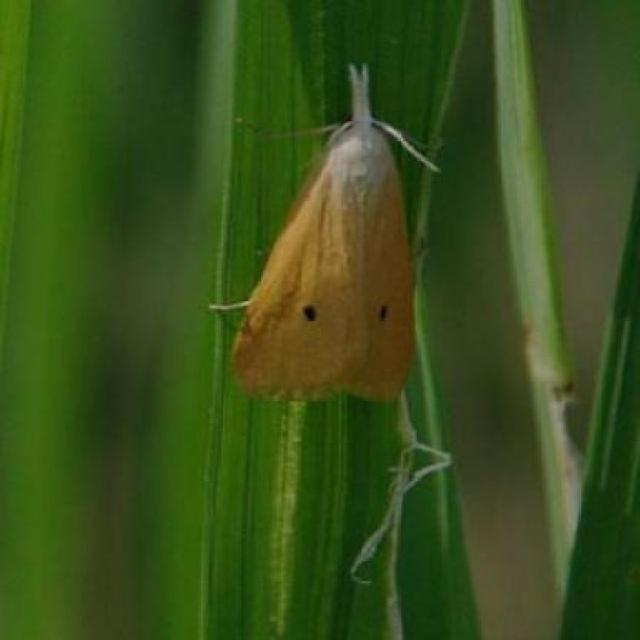stem-borer: (213, 62, 444, 402)
